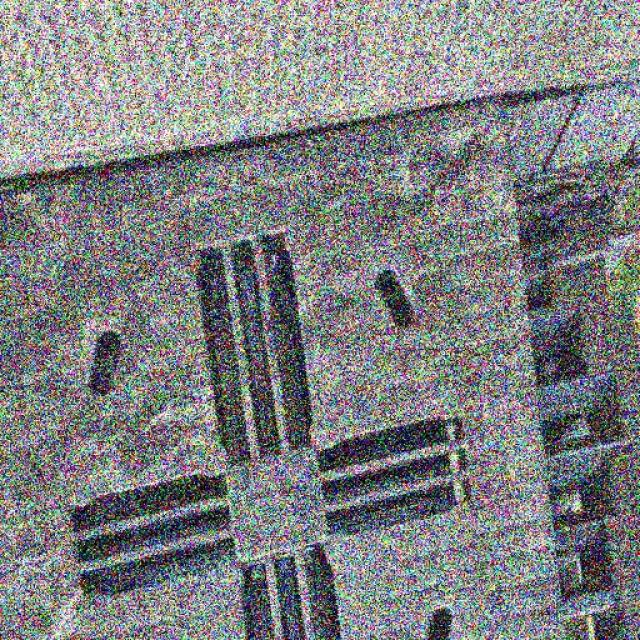non-igps: (0, 87, 575, 640), (511, 189, 640, 640)
